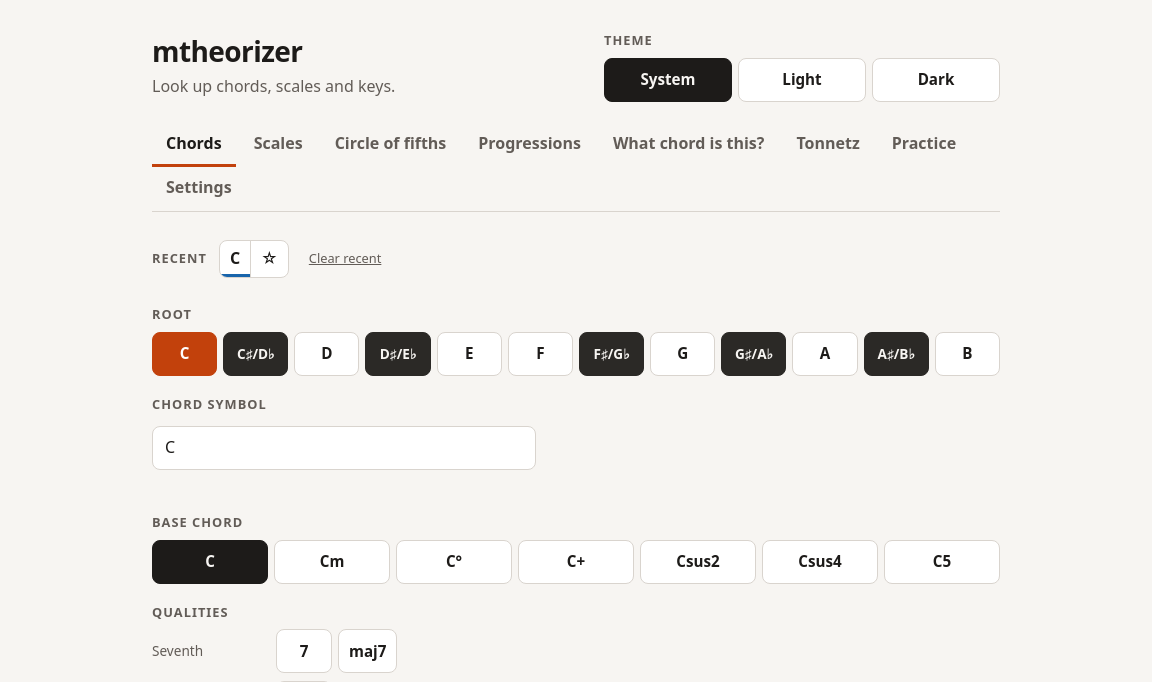
Test: App › shows each base chord as a symbol on the chosen root
Each chord gets its own root spelling: D♭ major but C♯ minor and C♯°.
Click the radio button labelled "C♯/D♭" at (256, 354), box [223, 332, 288, 376]
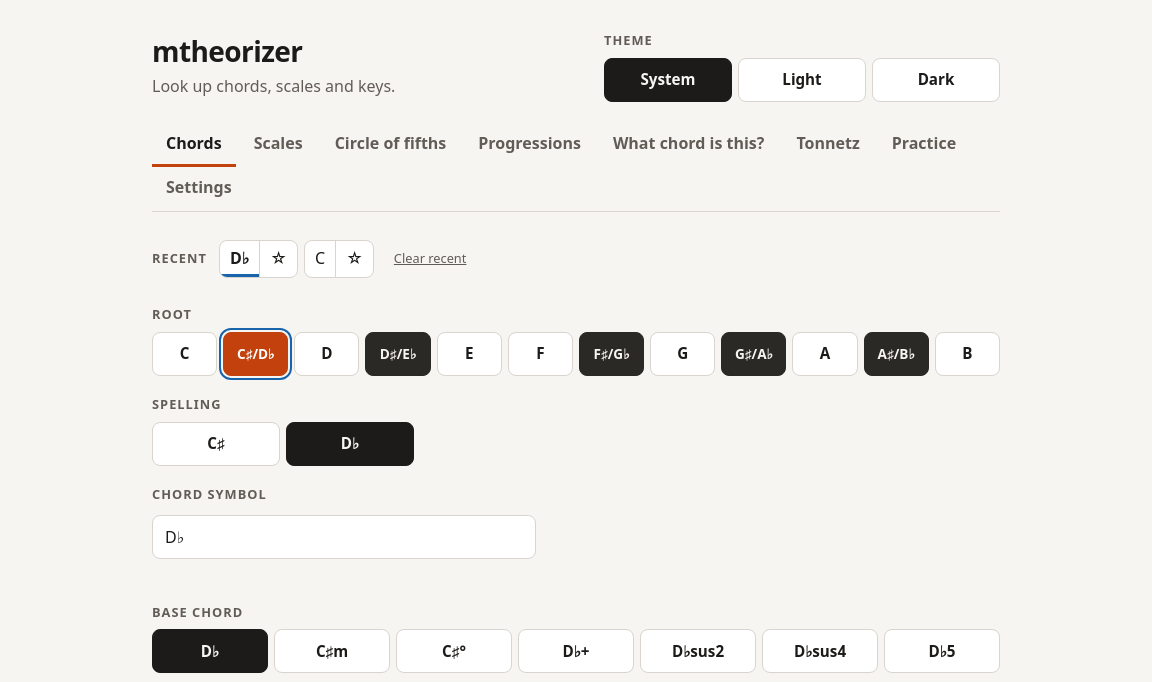
Expected: the text "C♯m" is shown, [274, 630, 390, 674]
Expected: the text "C♯°" is shown, [396, 630, 512, 674]
